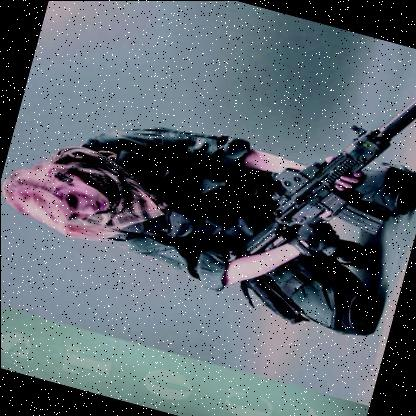rifle: (232, 60, 416, 296)
